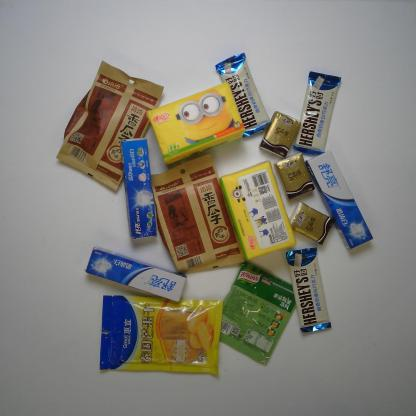Chocolate: (282, 240, 340, 340), (216, 53, 271, 137), (294, 71, 342, 158)
Dried Food: (55, 60, 165, 192), (147, 154, 244, 272)
Dried Fruit: (101, 295, 222, 375)
Personal Hygiene: (303, 151, 374, 249), (84, 248, 186, 302), (122, 138, 158, 240)
Seasoner: (214, 262, 299, 368)
Tissue: (146, 82, 244, 164), (215, 157, 293, 260), (291, 200, 334, 245), (261, 110, 300, 158), (276, 151, 314, 199)
